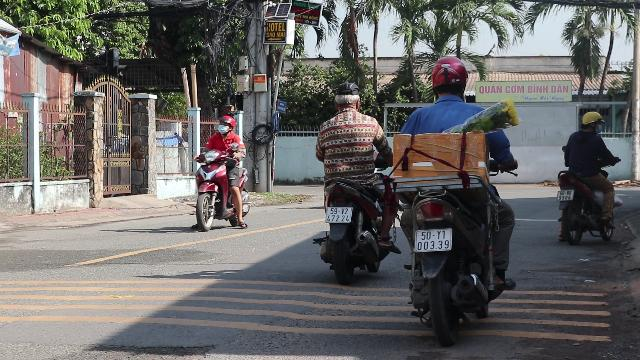helmet: (428, 55, 470, 101), (579, 111, 605, 135), (217, 116, 236, 136)
licenseplate: (415, 229, 451, 251), (326, 206, 352, 222), (557, 190, 573, 200)
motorcyclist: (386, 55, 522, 342), (310, 79, 398, 281), (552, 110, 620, 244), (190, 114, 252, 232)
nohelmet: (332, 82, 362, 114)
